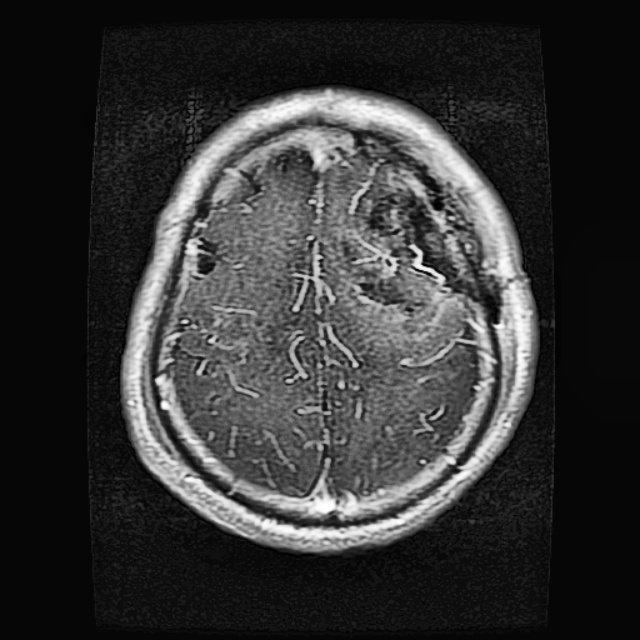Pituitary: (339, 159, 473, 304)
